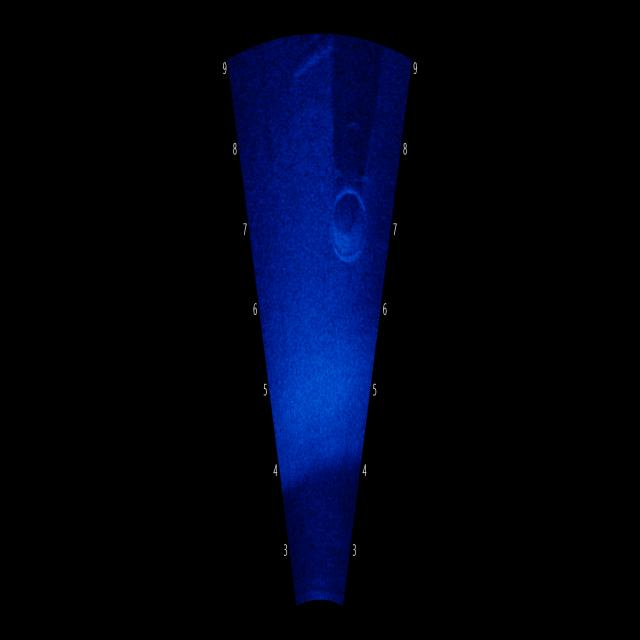circle: (313, 154, 372, 304)
